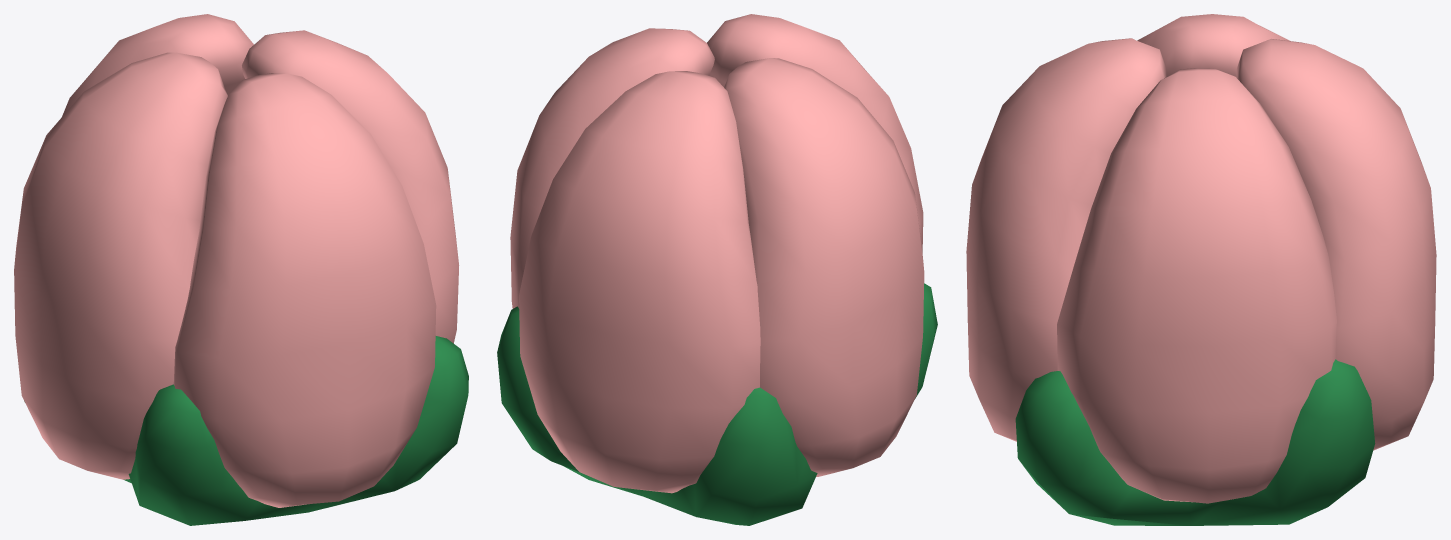
File: FlowerHead.fbx
3 renders of one model, left to right at view 1: azimuth 30°, elevation 25°; view 2: azimuth 150°, elevation 25°; view 3: azimuth 270°, elevation 25°, orthographic. The views are drawn at different scales.
Parts seen in each view (by area): view 1: FlowerHead; view 2: FlowerHead; view 3: FlowerHead.
Boxes of the visible parts, box(x1,y1,x2,y2) form: FlowerHead: box(14, 14, 468, 525); FlowerHead: box(497, 14, 937, 525); FlowerHead: box(966, 14, 1436, 525).
Size of the model in its own units: 223 by 250 by 238.
